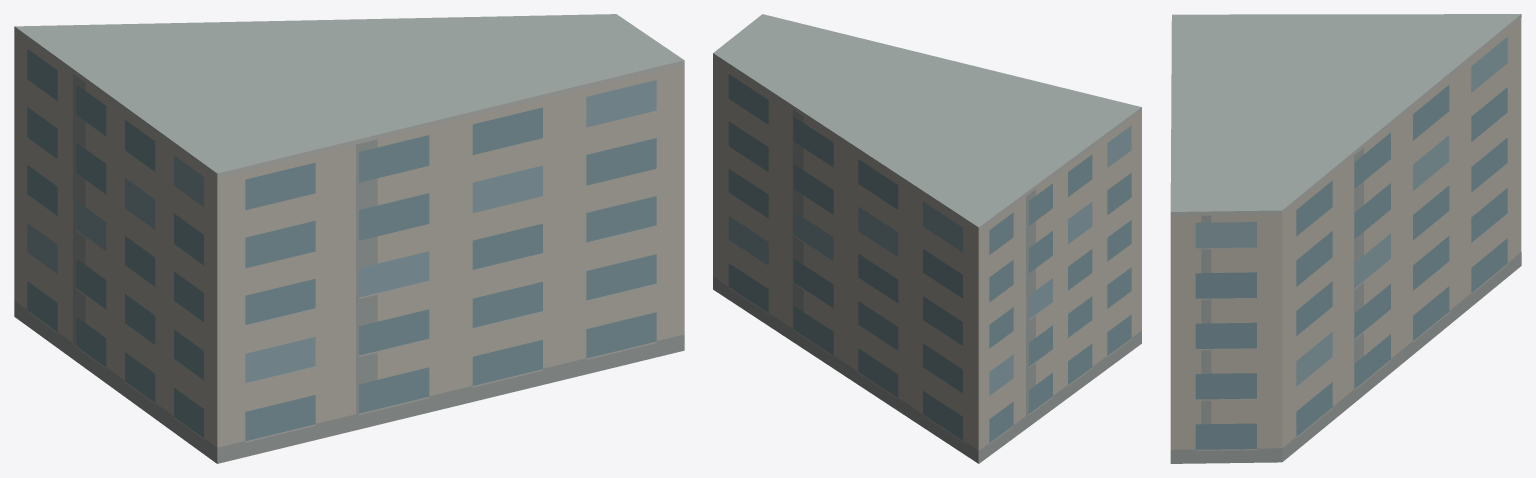
Rendered from residential-875b6d28-06b8-4ae0-8897-a08b84e9984b.glb.
3 views of the same model, side by side, from view 1: azimuth 30°, elevation 25°; view 2: azimuth 150°, elevation 25°; view 3: azimuth 270°, elevation 25° (orthographic). The views are drawn at different scales.
Parts seen in each view (by area): view 1: residential-875b6d28-06b8-4ae0-8897-a08b84e9984b.tmp; view 2: residential-875b6d28-06b8-4ae0-8897-a08b84e9984b.tmp; view 3: residential-875b6d28-06b8-4ae0-8897-a08b84e9984b.tmp.
Boxes of the visible parts, x1,y1,x2,y2 form: residential-875b6d28-06b8-4ae0-8897-a08b84e9984b.tmp: (14,14,684,463); residential-875b6d28-06b8-4ae0-8897-a08b84e9984b.tmp: (713,14,1141,463); residential-875b6d28-06b8-4ae0-8897-a08b84e9984b.tmp: (1170,14,1521,463).
Bounding box in the file's own units: 25.72 × 15.25 × 19.26.
